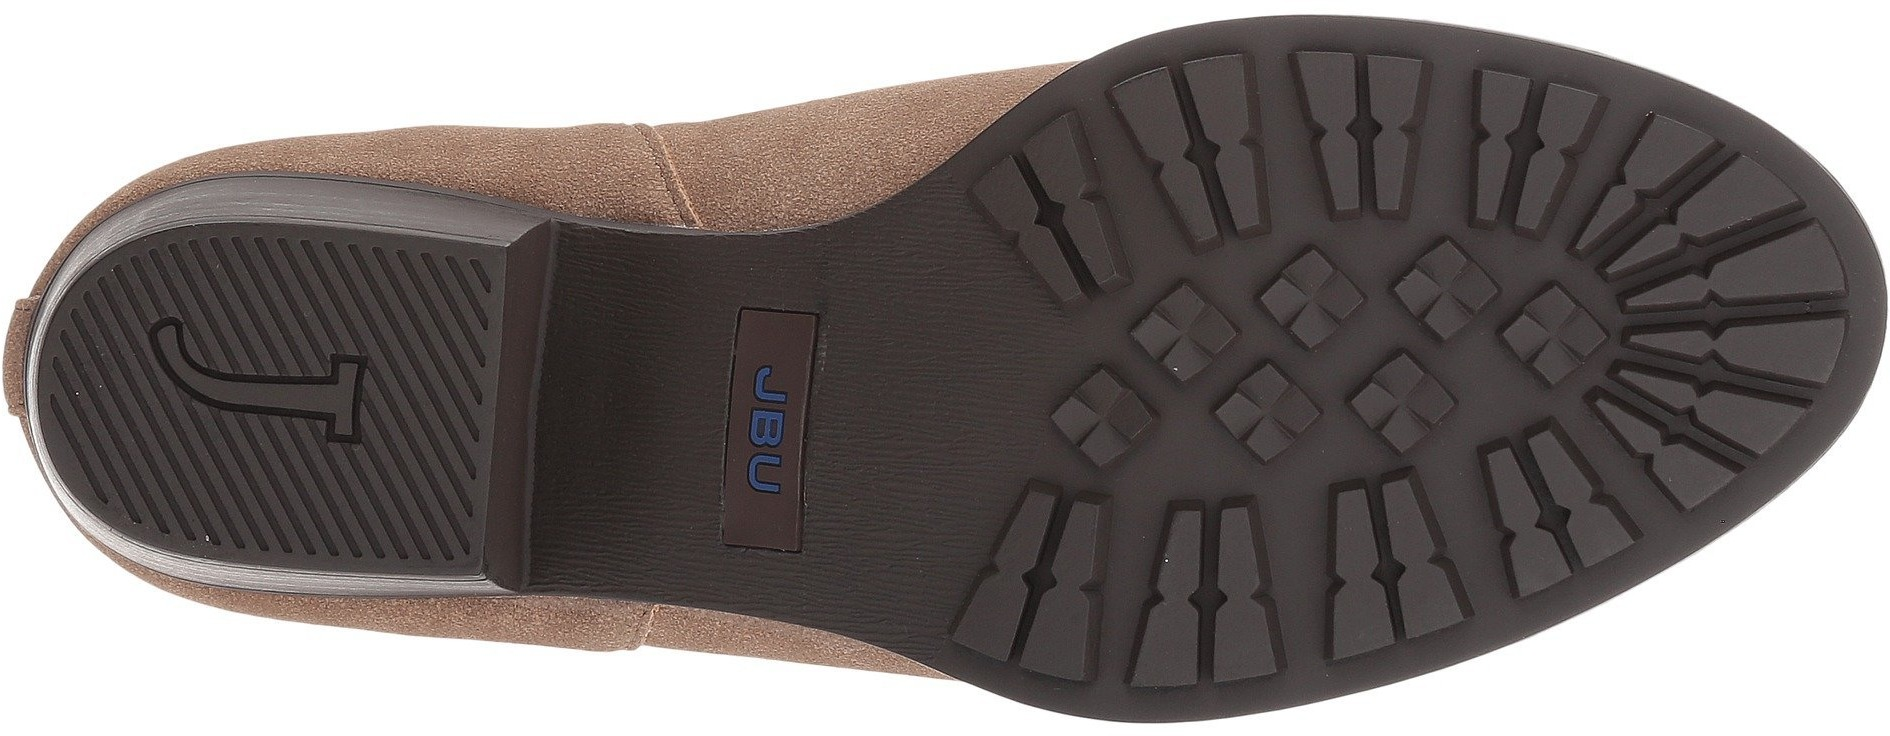bowtie: (1584, 184, 1868, 431), (1082, 20, 1291, 273), (1105, 496, 1317, 699), (1465, 416, 1647, 622), (1439, 61, 1612, 242)
line: (209, 236, 346, 365), (182, 417, 311, 541), (366, 332, 489, 457), (356, 444, 472, 558), (388, 251, 489, 355), (48, 324, 146, 425)
other: (827, 285, 1025, 461), (830, 461, 957, 579)
quad: (1129, 278, 1317, 457), (1392, 237, 1578, 410)
text: (149, 273, 366, 465), (718, 401, 812, 501), (726, 359, 815, 447), (735, 360, 822, 449)
